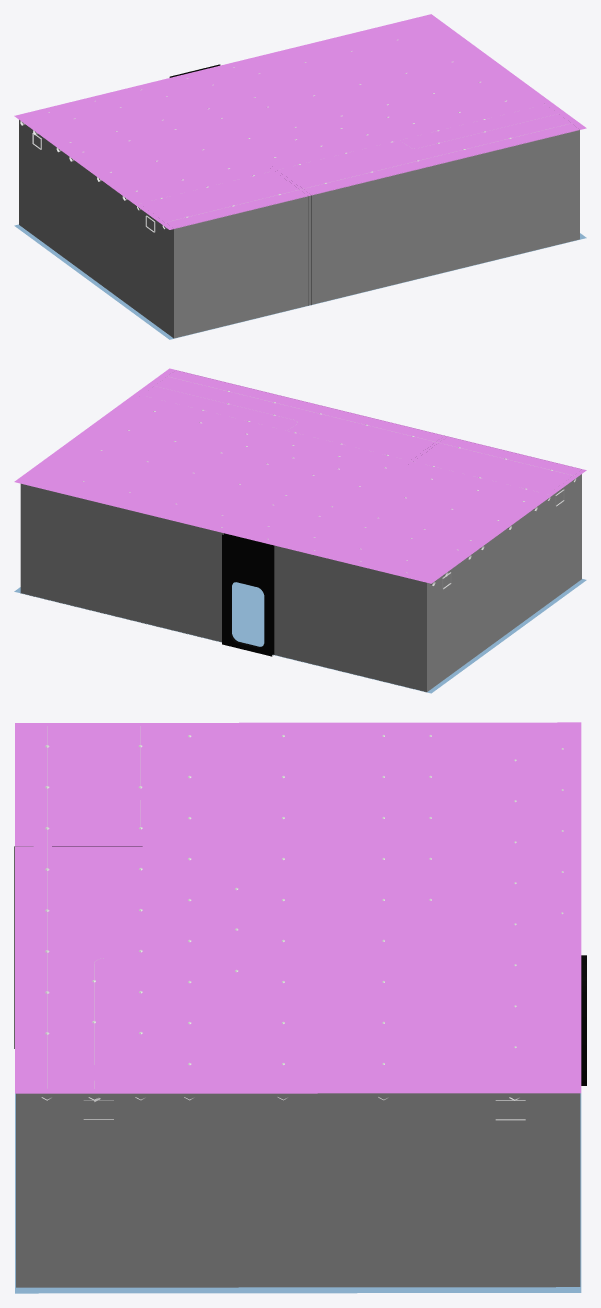
The model's file is rec room.FBX.
3 renders of one model, top to bottom at view 1: azimuth 30°, elevation 25°; view 2: azimuth 150°, elevation 25°; view 3: azimuth 270°, elevation 25°, orthographic. The views are drawn at different scales.
Visible parts, largest first — view 1: Box032, Object129; view 2: Box032, Object129, Object131, Cylinder008; view 3: Box032, Object129, Cylinder008, Object131.
Part boxes in pixels (x1,y1,x2,y2): Box032: (14,14,586,339); Object129: (19,120,579,338); Box032: (14,368,586,693); Object129: (20,435,581,692); Object131: (222,533,274,656); Cylinder008: (100,376,576,559); Box032: (15,722,581,1293); Object129: (14,846,580,1287); Cylinder008: (41,726,431,1101); Object131: (581,955,586,1085).
Bounding box in the file's own units: 122 × 30.92 × 79.91.
